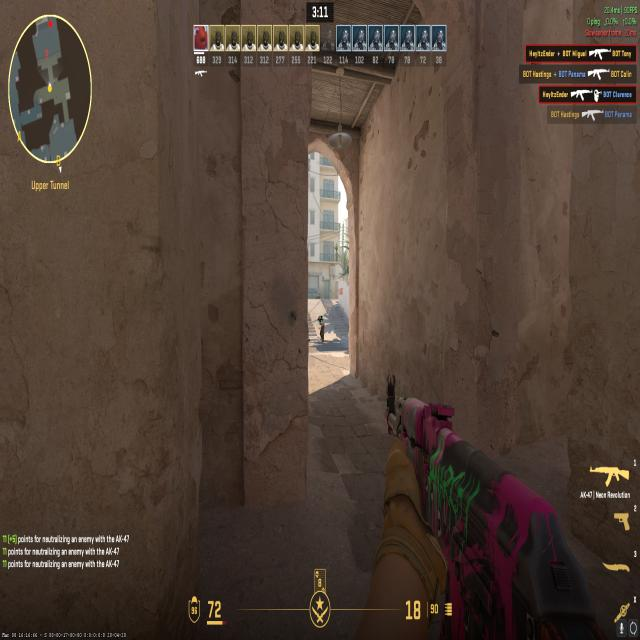t: (317, 313, 327, 346)
